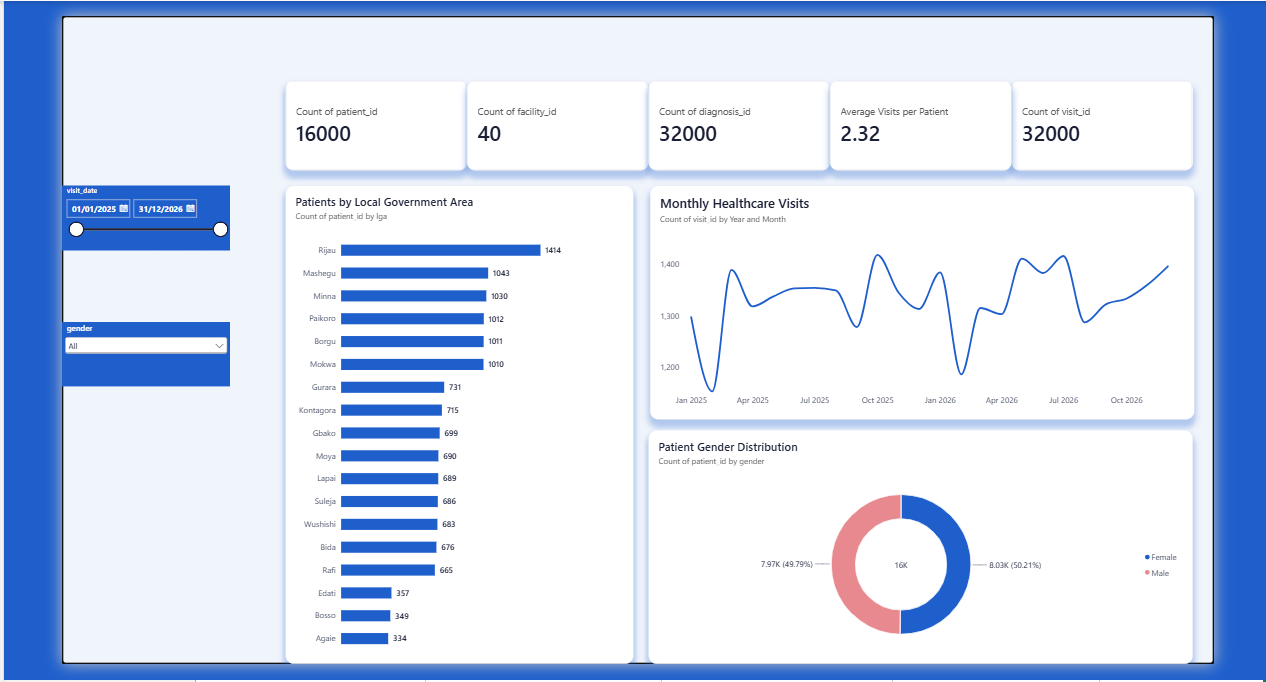

What the dashboard file says about the page in this screenshot:
{"tool":"powerbi","page":{"name":"Healthcare Overview","canvas":[1920,1080],"ordinal":0},"visuals":[{"type":"cardVisual","fields":{"Data":["Count(public visits.visit_id)"]},"box":[1582.5,107.5,302.5,150],"z":0},{"type":"cardVisual","fields":{"Data":["Count(public patients.patient_id)"]},"box":[372.5,107.5,302.5,150],"z":1000},{"type":"cardVisual","fields":{"Data":["Count(public facilities.facility_id)"]},"box":[675,107.5,302.5,150],"z":2000},{"type":"cardVisual","fields":{"Data":["Count(public diagnoses.diagnosis_id)"]},"box":[977.5,107.5,302.5,150],"z":3000},{"type":"cardVisual","fields":{"Data":["public diagnoses.Average Visits per Patient"]},"box":[1280,107.5,302.5,150],"z":4000},{"type":"lineChart","title":"Monthly Healthcare Visits","fields":{"Category":["public visits.visit_date.Variation.Date Hierarchy.Year","public visits.visit_date.Variation.Date Hierarchy.Month"],"Y":["CountNonNull(public visits.visit_id)"]},"box":[980,282.5,907.5,390],"z":5000},{"type":"clusteredBarChart","title":"Patients by Local Government Area","fields":{"Category":["public facilities.lga"],"Y":["Count(public visits.patient_id)"]},"box":[372.5,282.5,580,797.5],"z":6000},{"type":"donutChart","title":"Patient Gender Distribution","fields":{"Category":["public patients.gender"],"Y":["Count(public patients.patient_id)"]},"box":[977.5,690,907.5,390],"z":7000},{"type":"slicer","fields":{"Values":["public patients.gender"]},"box":[0,510,280,107.5],"z":8000},{"type":"slicer","fields":{"Values":["public visits.visit_date"]},"box":[0,282.5,280,107.5],"z":9000}]}

Visuals, with their boxes on the page's 1920x1080 design canvas (x1, y1, x2, y2). These are canvas units, not pixel positions in the 1266x682 screenshot, which may show the page scaled, cropped or inside an application window:
cardVisual - Count(public visits.visit_id): [1582, 108, 1885, 258]
cardVisual - Count(public patients.patient_id): [372, 108, 675, 258]
cardVisual - Count(public facilities.facility_id): [675, 108, 978, 258]
cardVisual - Count(public diagnoses.diagnosis_id): [978, 108, 1280, 258]
cardVisual - public diagnoses.Average Visits per Patient: [1280, 108, 1582, 258]
"Monthly Healthcare Visits" lineChart: [980, 282, 1888, 672]
"Patients by Local Government Area" clusteredBarChart: [372, 282, 952, 1080]
"Patient Gender Distribution" donutChart: [978, 690, 1885, 1080]
slicer - public patients.gender: [0, 510, 280, 618]
slicer - public visits.visit_date: [0, 282, 280, 390]
